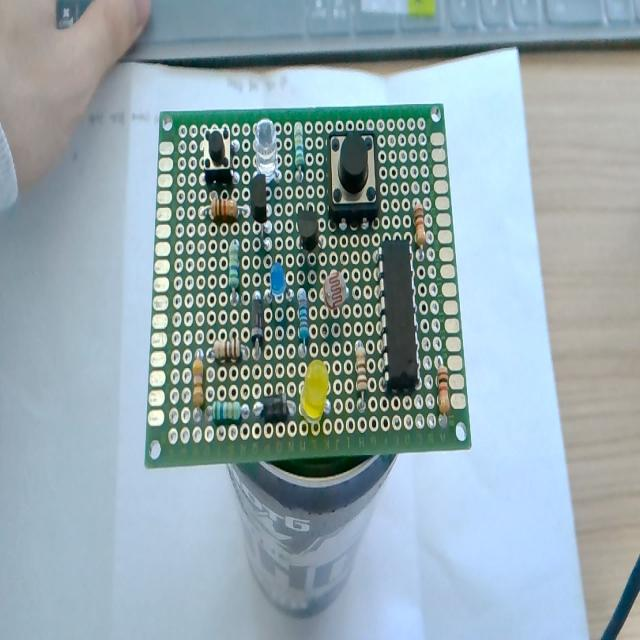IC: (371, 243, 424, 393)
cds: (317, 263, 349, 331)
diode: (250, 385, 299, 421), (246, 288, 266, 356)
led: (295, 358, 335, 434), (252, 114, 285, 186), (261, 259, 293, 318)
resistor: (434, 353, 454, 434), (290, 119, 312, 185), (205, 337, 252, 367), (190, 344, 208, 422), (204, 397, 248, 428), (295, 280, 313, 354), (198, 198, 247, 224), (410, 193, 428, 263), (351, 339, 367, 414), (224, 238, 242, 302)
switch: (322, 125, 382, 226), (198, 124, 240, 188)
transistor: (292, 206, 330, 270), (243, 172, 275, 244)
